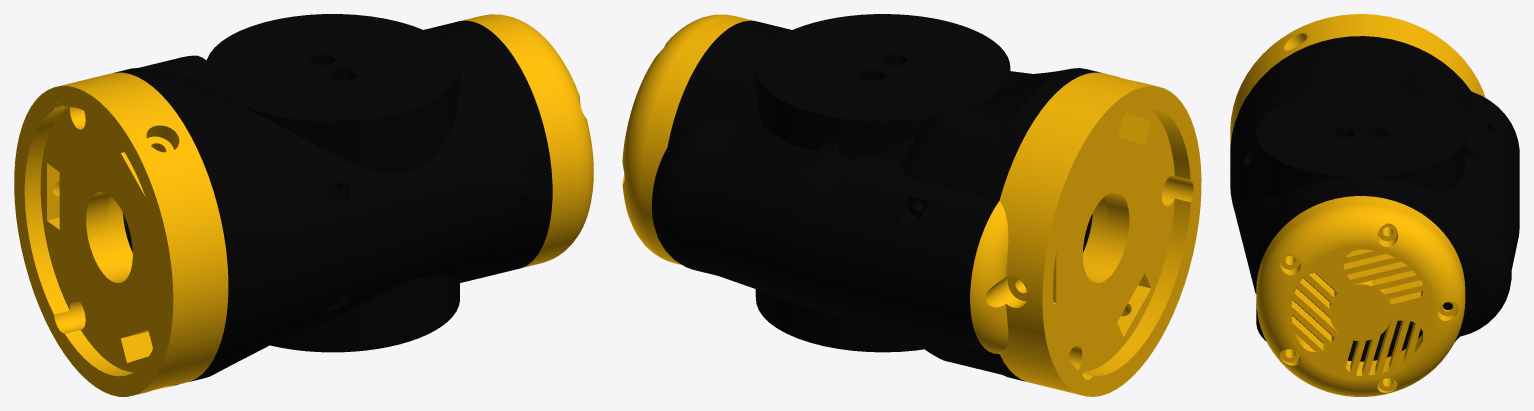
The picture shows the model from 3 angles, left to right: view 1: azimuth 30°, elevation 25°; view 2: azimuth 150°, elevation 25°; view 3: azimuth 270°, elevation 25°; orthographic projection. The views are drawn at different scales.
Parts seen in each view (by area): view 1: J7_model; view 2: J7_model; view 3: J7_model.
Part boxes in pixels (x1=…): J7_model: x1=14, y1=14, x2=593, y2=396; J7_model: x1=622, y1=14, x2=1201, y2=396; J7_model: x1=1230, y1=14, x2=1519, y2=396.
Bounding box in the file's own units: 0.1225 × 0.0831 × 0.075.
